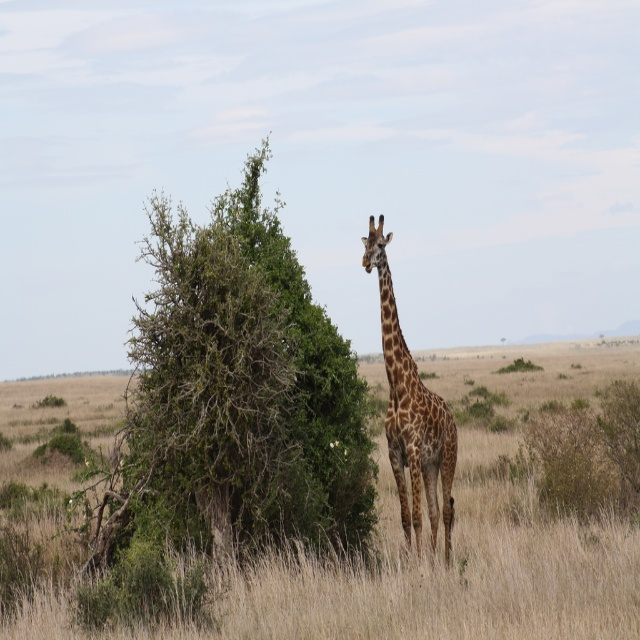Giraffe: (359, 211, 459, 573)
